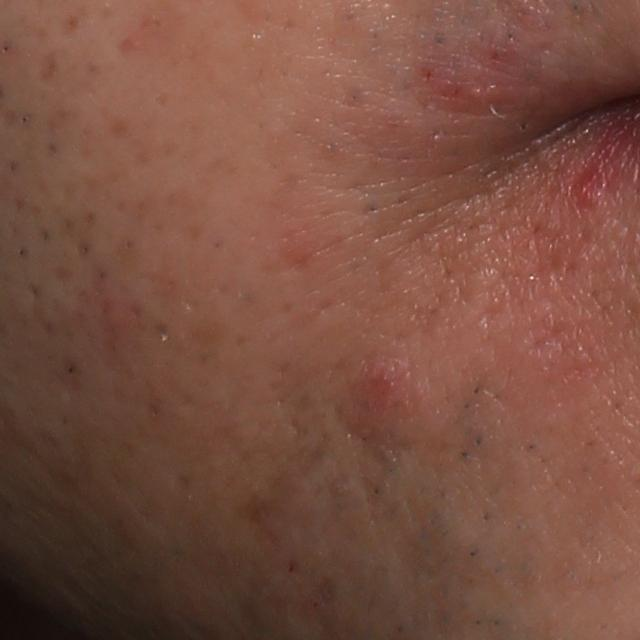papule: (357, 353, 425, 432), (566, 162, 616, 210)
